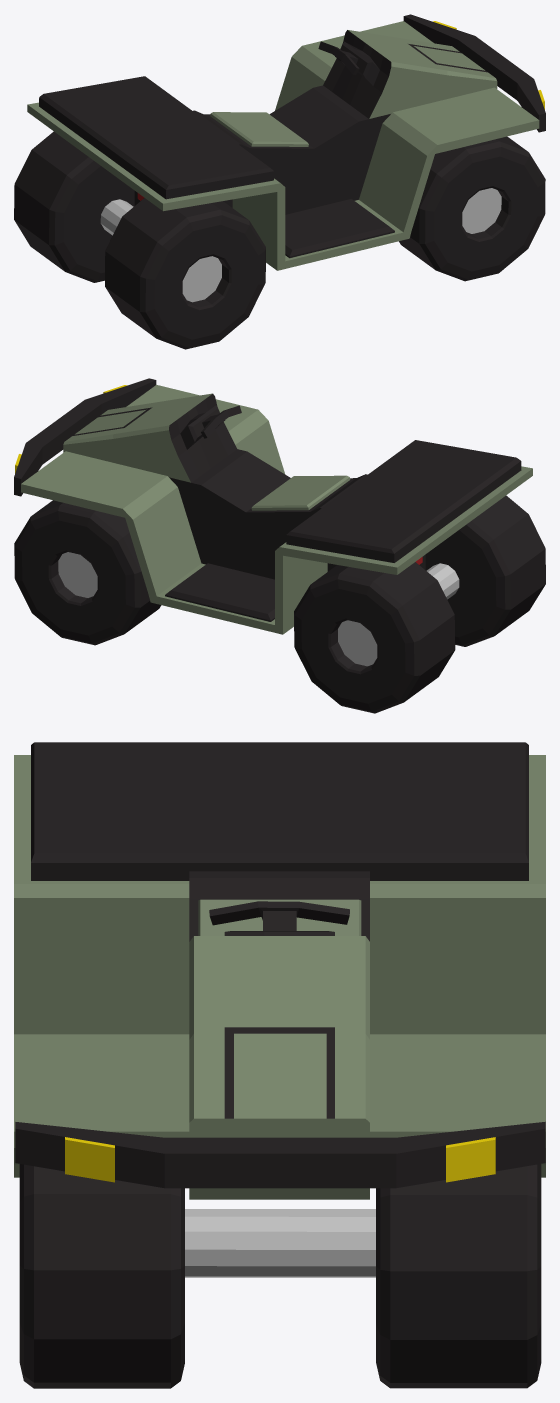
The model's file is QuadBike.fbx.
The picture shows the model from 3 angles, top to bottom: view 1: azimuth 30°, elevation 25°; view 2: azimuth 150°, elevation 25°; view 3: azimuth 270°, elevation 25°; orthographic projection. The views are drawn at different scales.
Parts seen in each view (by area): view 1: Cylinder.002; view 2: Cylinder.002; view 3: Cylinder.002.
Part boxes in pixels (x1,y1,x2,y2): Cylinder.002: (14,14,545,349); Cylinder.002: (14,378,545,713); Cylinder.002: (14,742,545,1388).
Size of the model in its own units: 541 by 243 by 297.
